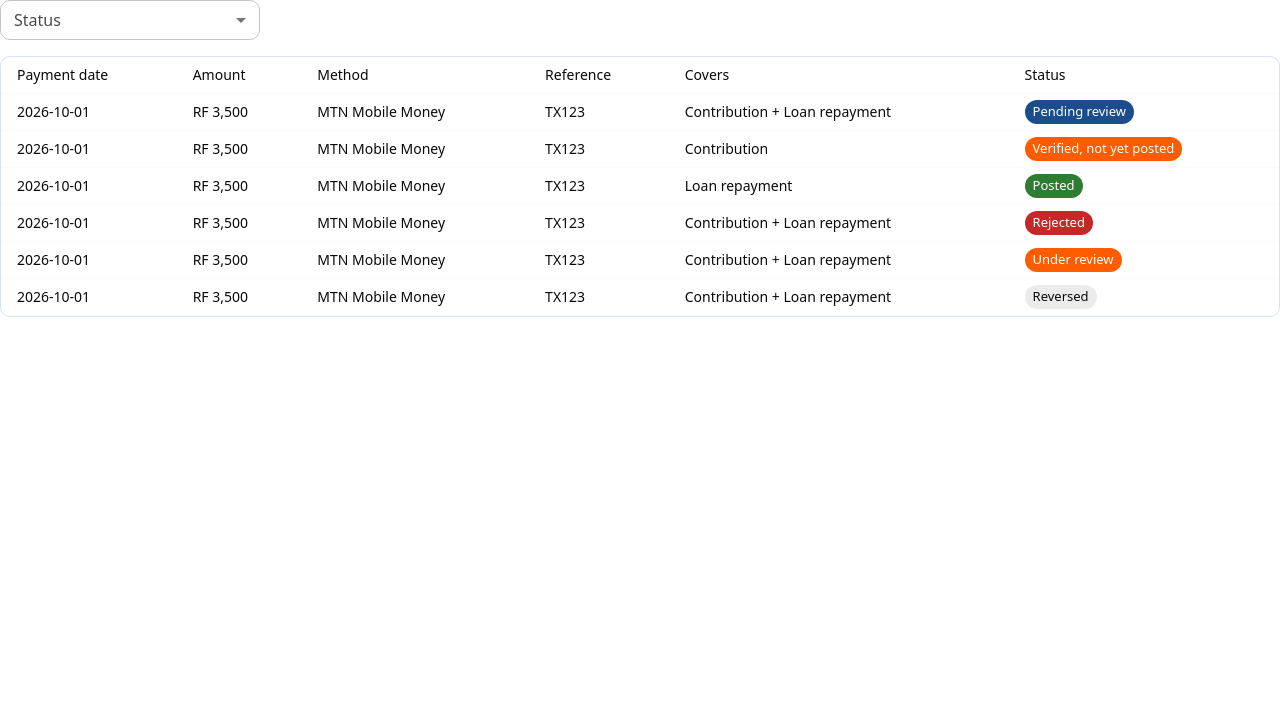
member payment history › explains a verified payment without implying a balance changed
Click the text "Verified, not yet posted" at (1103, 149), box [1024, 139, 1182, 159]
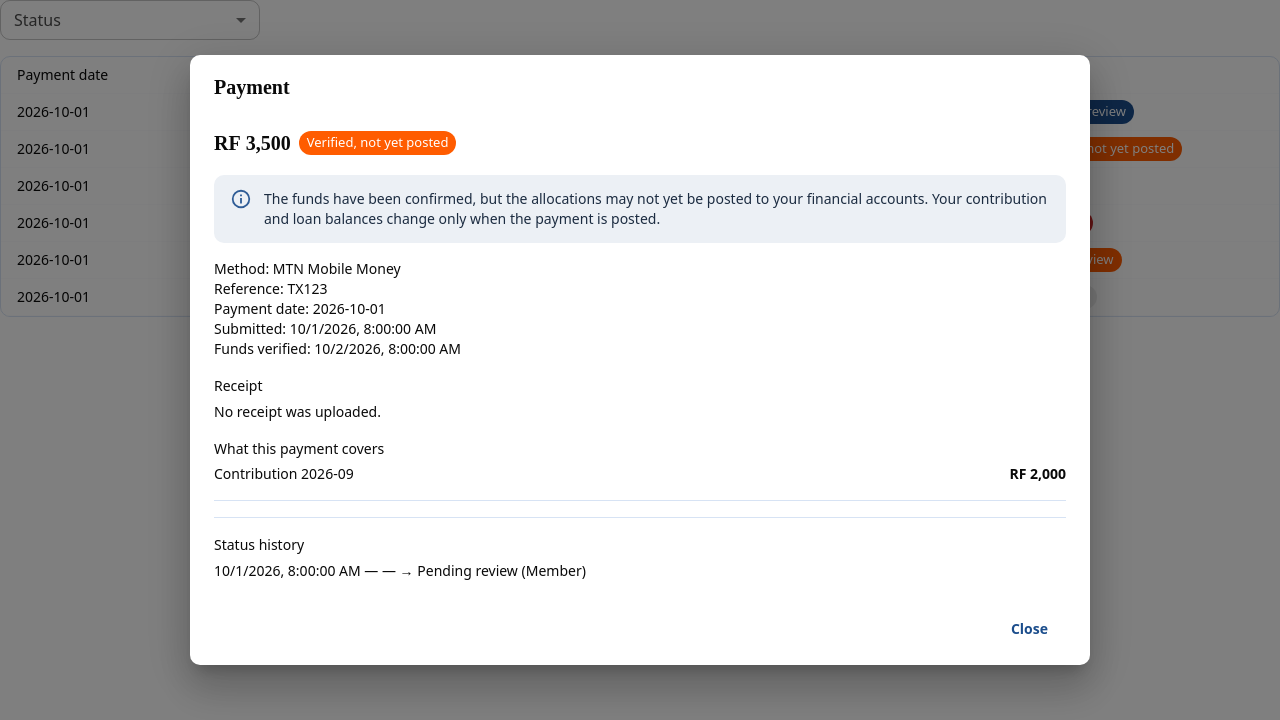
Expected: the message with test id "payment-status-notice" shows "funds have been confirmed, but the allocations may not yet be posted to your financial accounts", [264, 189, 1047, 228]
Expected: the text "Funds verified: 10/2/2026, 8:00:00 AM" is shown, [214, 339, 461, 358]
Expected: the element with test id "payment-allocations" shows "Contribution 2026-09", [214, 464, 354, 484]
